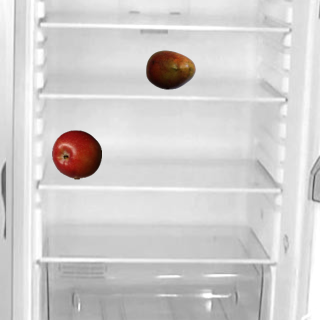Apple Braeburn: (51, 129, 101, 179)
Mango Red: (145, 44, 195, 94)
